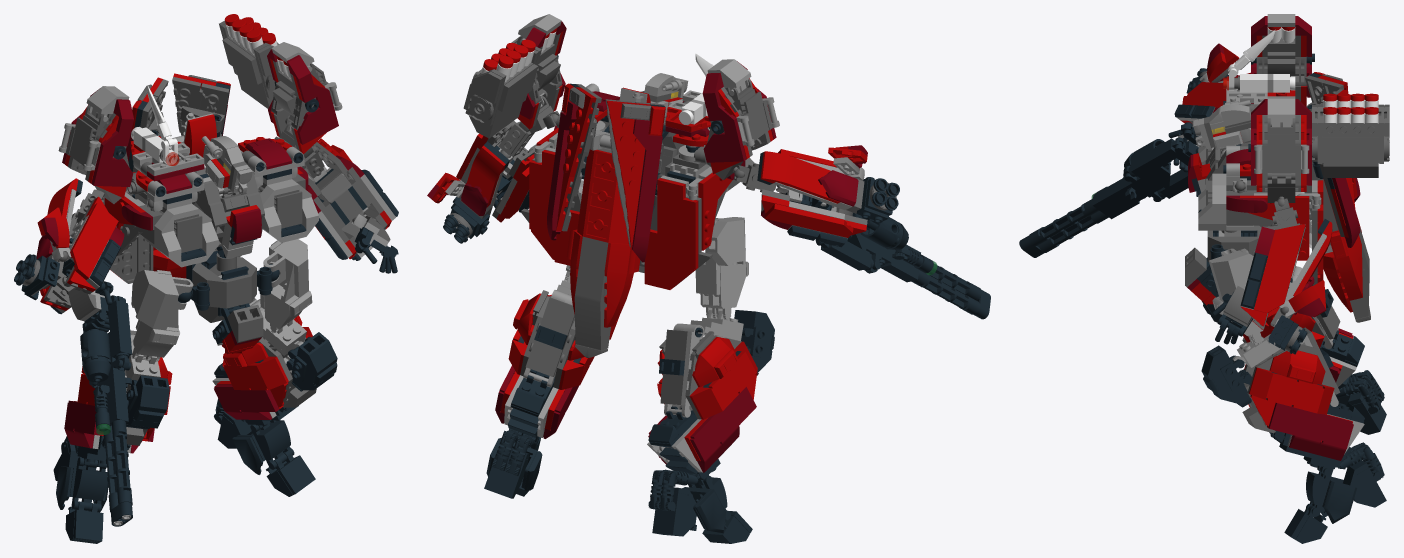
File: afc-01z-legioss-battroid.dae
The picture shows the model from 3 angles, left to right: view 1: azimuth 30°, elevation 25°; view 2: azimuth 150°, elevation 25°; view 3: azimuth 270°, elevation 25°; orthographic projection. The views are drawn at different scales.
Size of the model in its own units: 643 by 535 by 698.
